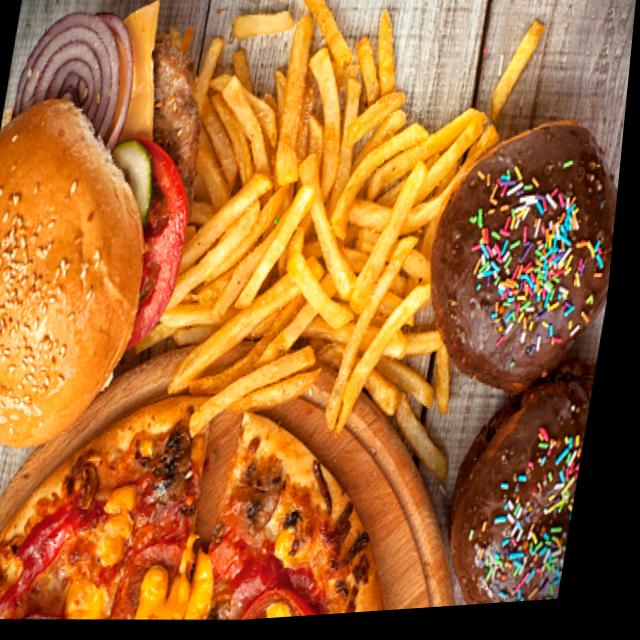burger: (0, 0, 226, 458)
pizza: (0, 372, 448, 640)
